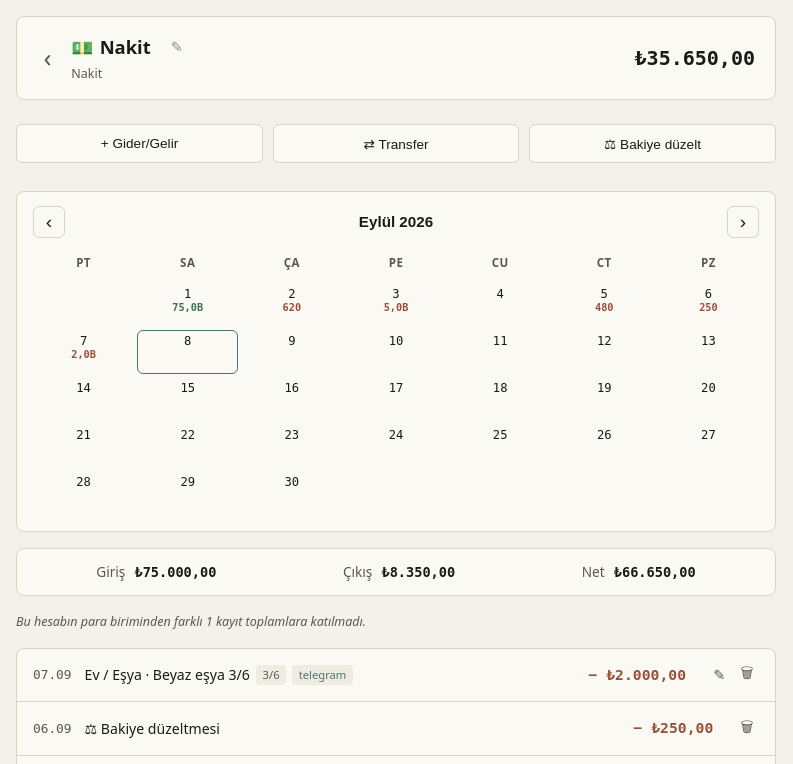
Test case: Hesap detayı › bakiye düzelt düğmesi düzeltme formunu açar
Click the button "⚖ Bakiye düzelt". click: (653, 144)
box: [529, 124, 776, 163]
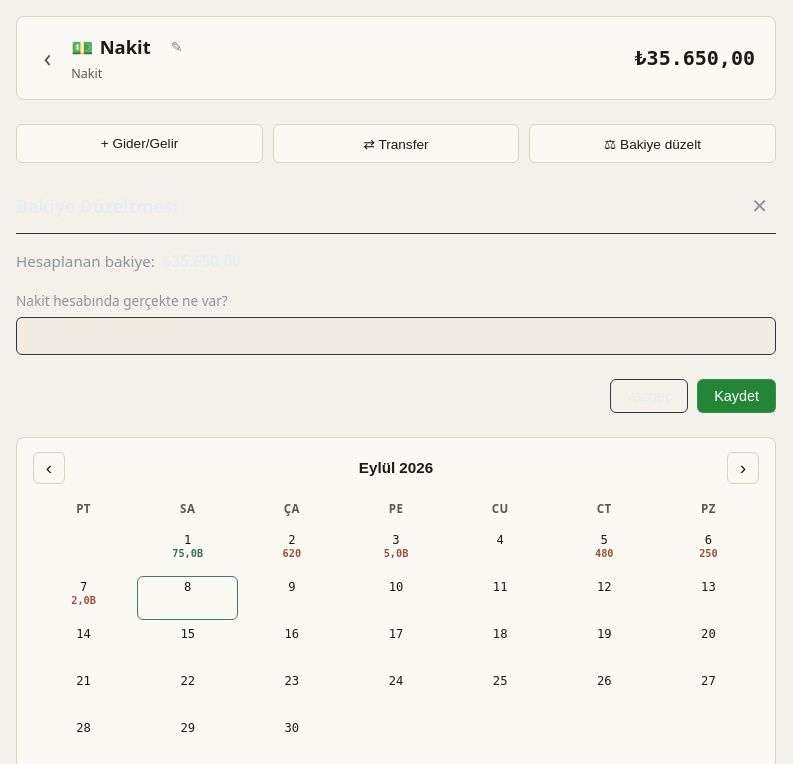
Now the number field with id "b-gercek" is shown, box [16, 317, 776, 355]
